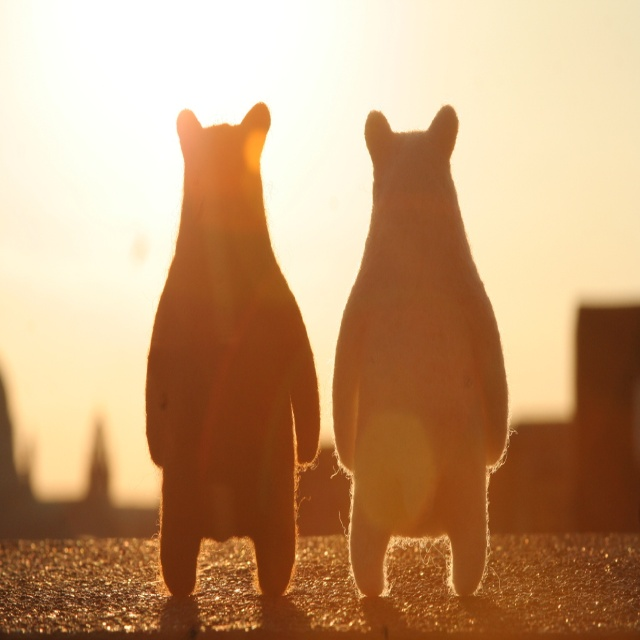Bear: (329, 103, 508, 600), (142, 99, 320, 596)
